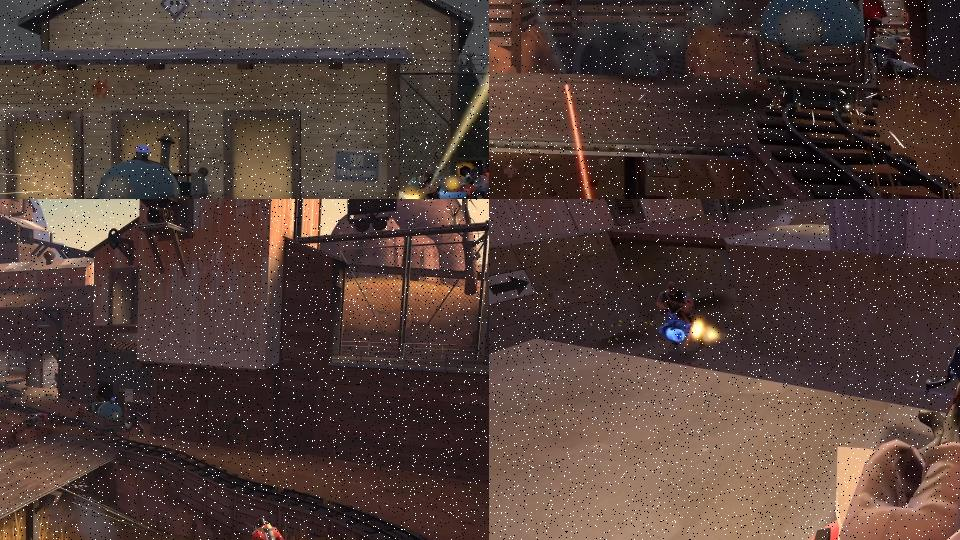Enemy: (738, 396, 960, 540), (656, 281, 704, 346), (918, 322, 960, 396), (870, 44, 928, 79), (854, 0, 888, 43), (401, 167, 442, 199), (236, 517, 284, 540), (459, 164, 489, 199), (125, 407, 146, 441)
